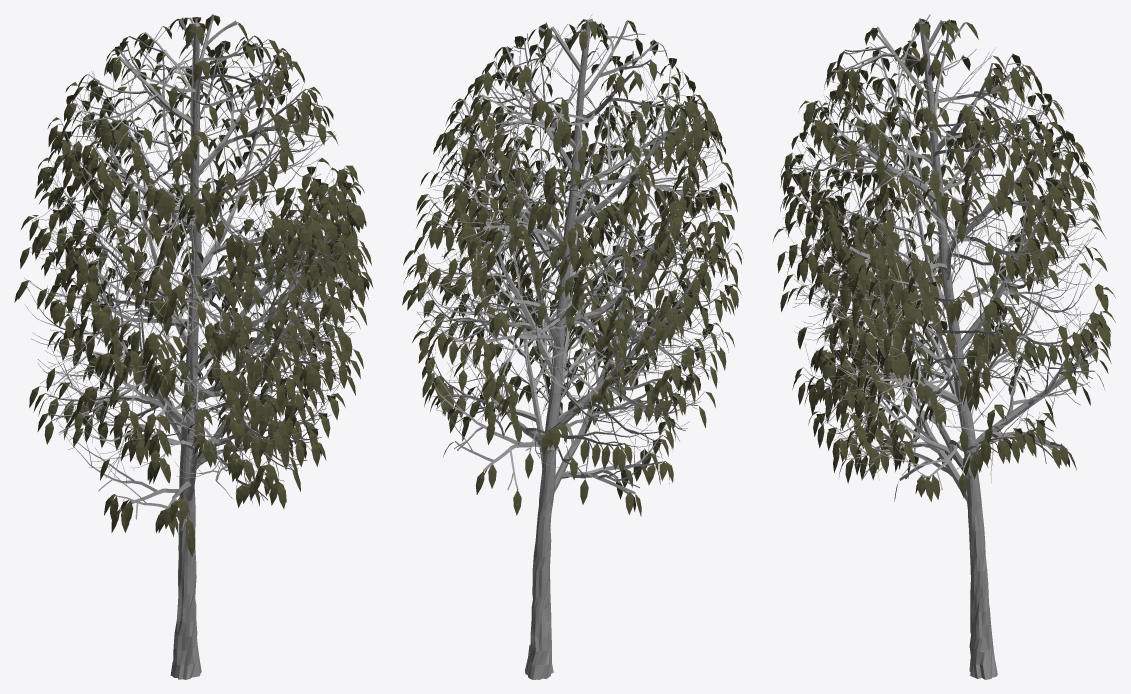
The model's file is tree3.obj.
3 renders of one model, left to right at view 1: azimuth 30°, elevation 25°; view 2: azimuth 150°, elevation 25°; view 3: azimuth 270°, elevation 25°, orthographic. The views are drawn at different scales.
Parts seen in each view (by area): view 1: Material__35; view 2: Material__35; view 3: Material__35.
Part boxes in pixels (box(x1,y1,x2,y2)): Material__35: box(14, 14, 373, 679); Material__35: box(402, 14, 742, 679); Material__35: box(773, 14, 1115, 679).
Bounding box in the file's own units: 840 × 1776 × 859.
